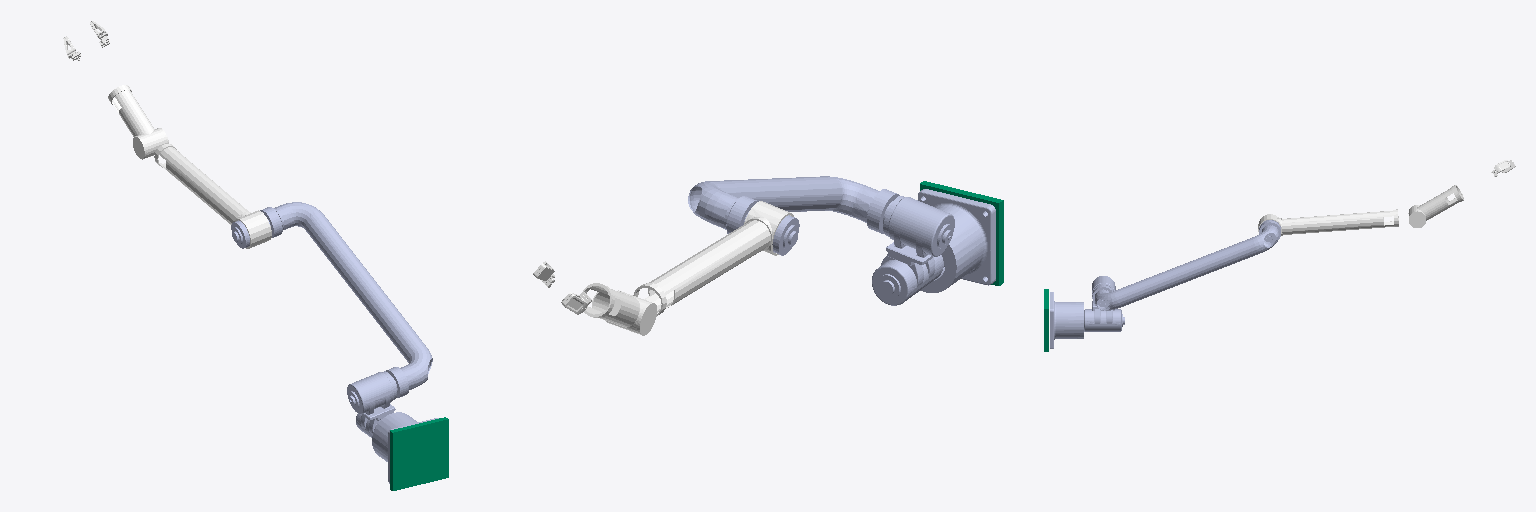
robot.urdf — satellite_4__starlink_sldasm9:
<?xml version='1.0' encoding='utf-8'?>
<robot name="satellite_4__starlink_sldasm9">
  <link name="base_link">
    <visual>
      <geometry>
        <mesh filename="../satellites/satellite_4/satellite.stl" scale="1 1 1" />
      </geometry>
      <material name="satellite_body_color">
        <color rgba="0.65 0.72 0.8 1" />
      </material>
    </visual>
    <collision>
      <geometry>
        <mesh filename="../satellites/satellite_4/satellite.stl" scale="1 1 1" />
      </geometry>
    </collision>
  </link>
  <link name="satellite_4_mount" />
  <joint name="satellite_mount_fixed" type="fixed">
    <parent link="base_link" />
    <child link="satellite_4_mount" />
    <origin xyz="0 0.5000001517447981 0.8" rpy="-1.5707963267948966 0.0 0.0" />
  </joint>
  <link name="concept_mount_pad">
    <visual>
      <origin xyz="0 0 0.015" />
      <geometry>
        <box size=".32 .32 .03" />
      </geometry>
    </visual>
    <collision>
      <origin xyz="0 0 0.015" />
      <geometry>
        <box size=".32 .32 .03" />
      </geometry>
    </collision>
  </link>
  <joint name="pad_fixed" type="fixed">
    <parent link="satellite_4_mount" />
    <child link="concept_mount_pad" />
    <origin xyz="0 0 0" rpy="0 0 0" />
  </joint>
  <joint name="arm_adapter_fixed" type="fixed">
    <parent link="satellite_4_mount" />
    <child link="starlink_space_manipulator_base_link" />
    <origin xyz="0.009087204933166504 0.008519247174263 0.15000000208616263" rpy="-1.5707963267948966 0 0" />
  </joint>
  <link name="starlink_space_manipulator_base_link">
    <inertial>
      <origin xyz="-0.00908719924946466 0.0225428225681148 -0.00851924929637313" rpy="0 0 0" />
      <mass value="8.66024015898073" />
      <inertia ixx="0.0960303512697639" ixy="1.65511904636803E-18" ixz="6.22039820639877E-19" iyy="0.103454922260914" iyz="-9.68471289978311E-19" izz="0.0960303512697639" />
    </inertial>
    <visual>
      <origin xyz="0 0 0" rpy="0 0 0" />
      <geometry>
        <mesh filename="../arms/starlink_sldasm9/meshes/starlink_space_manipulator_base_link.STL" />
      </geometry>
      <material name="">
        <color rgba="0.792156862745098 0.819607843137255 0.933333333333333 1" />
      </material>
    </visual>
    <collision>
      <origin xyz="0 0 0" rpy="0 0 0" />
      <geometry>
        <mesh filename="../arms/starlink_sldasm9/meshes/starlink_space_manipulator_base_link.STL" />
      </geometry>
    </collision>
  </link>
  <link name="starlink_space_manipulator_Shoulder_link_1">
    <inertial>
      <origin xyz="-0.000399471745595769 -0.100006574194712 -0.17423940484461" rpy="0 0 0" />
      <mass value="5.16309216784981" />
      <inertia ixx="0.0524543852135592" ixy="0.00348154867667969" ixz="6.96526910910627E-05" iyy="0.0306595326318824" iyz="-0.00056674368052247" izz="0.0439979075615329" />
    </inertial>
    <visual>
      <origin xyz="0 0 0" rpy="0 0 0" />
      <geometry>
        <mesh filename="../arms/starlink_sldasm9/meshes/starlink_space_manipulator_Shoulder_link_1.STL" />
      </geometry>
      <material name="">
        <color rgba="0.792156862745098 0.819607843137255 0.933333333333333 1" />
      </material>
    </visual>
    <collision>
      <origin xyz="0 0 0" rpy="0 0 0" />
      <geometry>
        <mesh filename="../arms/starlink_sldasm9/meshes/starlink_space_manipulator_Shoulder_link_1.STL" />
      </geometry>
    </collision>
  </link>
  <joint name="starlink_space_manipulator_Shoulder_link_1_yaw" type="revolute">
    <origin xyz="-0.0090872 -0.065 -0.0085192" rpy="1.5708 -0.15574 3.1416" />
    <parent link="starlink_space_manipulator_base_link" />
    <child link="starlink_space_manipulator_Shoulder_link_1" />
    <axis xyz="0 0 -1" />
    <limit lower="-3.14" upper="3.14" effort="0" velocity="0" />
  </joint>
  <link name="starlink_space_manipulator_Upper_arm_Link_1">
    <inertial>
      <origin xyz="0.402106341472203 -0.696465272634528 -0.170177523085579" rpy="0 0 0" />
      <mass value="5.05309869040685" />
      <inertia ixx="0.388719013133801" ixy="0.210155896498943" ixz="9.30829370680679E-08" iyy="0.146049057575642" iyz="1.71830458004218E-07" izz="0.500677708275447" />
    </inertial>
    <visual>
      <origin xyz="0 0 0" rpy="0 0 0" />
      <geometry>
        <mesh filename="../arms/starlink_sldasm9/meshes/starlink_space_manipulator_Upper_arm_Link_1.STL" />
      </geometry>
      <material name="">
        <color rgba="0.792156862745098 0.819607843137255 0.933333333333333 1" />
      </material>
    </visual>
    <collision>
      <origin xyz="0 0 0" rpy="0 0 0" />
      <geometry>
        <mesh filename="../arms/starlink_sldasm9/meshes/starlink_space_manipulator_Upper_arm_Link_1.STL" />
      </geometry>
    </collision>
  </link>
  <joint name="starlink_space_manipulator_Upper_arm_Link_1_roll" type="revolute">
    <origin xyz="0 -0.2 -0.18" rpy="1.5708 0.90646 1.5708" />
    <parent link="starlink_space_manipulator_Shoulder_link_1" />
    <child link="starlink_space_manipulator_Upper_arm_Link_1" />
    <axis xyz="0 0 -1" />
    <limit lower="-2" upper="1.5" effort="0" velocity="0" />
  </joint>
  <link name="starlink_space_manipulator_Mid_arm_Link_1">
    <inertial>
      <origin xyz="-0.000406052776441013 0.317722269561105 0.0155331755135703" rpy="0 0 0" />
      <mass value="1.57635531881168" />
      <inertia ixx="0.133610363618846" ixy="5.33750993405138E-05" ixz="-3.60473795202962E-09" iyy="0.00502119434334708" iyz="-2.514275749911E-05" izz="0.134586018527477" />
    </inertial>
    <visual>
      <origin xyz="0 0 0" rpy="0 0 0" />
      <geometry>
        <mesh filename="../arms/starlink_sldasm9/meshes/starlink_space_manipulator_Mid_arm_Link_1.STL" />
      </geometry>
      <material name="">
        <color rgba="1 1 1 1" />
      </material>
    </visual>
    <collision>
      <origin xyz="0 0 0" rpy="0 0 0" />
      <geometry>
        <mesh filename="../arms/starlink_sldasm9/meshes/starlink_space_manipulator_Mid_arm_Link_1.STL" />
      </geometry>
    </collision>
  </link>
  <joint name="starlink_space_manipulator_Mid_arm_Link_1_roll" type="revolute">
    <origin xyz="0.599999999999673 -1.03923048454122 0" rpy="-3.14159265358979 0 0.828250280535091" />
    <parent link="starlink_space_manipulator_Upper_arm_Link_1" />
    <child link="starlink_space_manipulator_Mid_arm_Link_1" />
    <axis xyz="0 0 -1" />
    <limit lower="-3.14" upper="3.14" effort="0" velocity="0" />
  </joint>
  <link name="starlink_space_manipulator_Upper_wrist_Link_1">
    <inertial>
      <origin xyz="-0.000400003664721815 -0.201565878030355 -0.00216705855311664" rpy="0 0 0" />
      <mass value="0.994770641034713" />
      <inertia ixx="0.00165409639029414" ixy="-7.59103925411082E-06" ixz="-3.17403155320863E-06" iyy="0.00201437937768072" iyz="2.63246464091218E-06" izz="0.00159638838344539" />
    </inertial>
    <visual>
      <origin xyz="0 0 0" rpy="0 0 0" />
      <geometry>
        <mesh filename="../arms/starlink_sldasm9/meshes/starlink_space_manipulator_Upper_wrist_Link_1.STL" />
      </geometry>
      <material name="">
        <color rgba="0.792156862745098 0.819607843137255 0.933333333333333 1" />
      </material>
    </visual>
    <collision>
      <origin xyz="0 0 0" rpy="0 0 0" />
      <geometry>
        <mesh filename="../arms/starlink_sldasm9/meshes/starlink_space_manipulator_Upper_wrist_Link_1.STL" />
      </geometry>
    </collision>
  </link>
  <joint name="starlink_space_manipulator_Upper_wrist_Link_1_yaw" type="revolute">
    <origin xyz="-0.00050155183276912 0.686793643713439 0.0155010481432086" rpy="0 -0.0763876794035917 3.14159265358979" />
    <parent link="starlink_space_manipulator_Mid_arm_Link_1" />
    <child link="starlink_space_manipulator_Upper_wrist_Link_1" />
    <axis xyz="0 -1 0" />
    <limit lower="-3.14" upper="3.14" effort="0" velocity="0" />
  </joint>
  <link name="starlink_space_manipulator_Upper_wrist_Link_2">
    <inertial>
      <origin xyz="8.45304168883843E-08 0.0848318719623631 -0.00515657391755576" rpy="0 0 0" />
      <mass value="1.03716823037577" />
      <inertia ixx="0.0100970561498589" ixy="1.32295633551837E-09" ixz="-9.43675929999229E-09" iyy="0.00222325407426665" iyz="-2.08772874866187E-06" izz="0.0105840577017538" />
    </inertial>
    <visual>
      <origin xyz="0 0 0" rpy="0 0 0" />
      <geometry>
        <mesh filename="../arms/starlink_sldasm9/meshes/starlink_space_manipulator_Upper_wrist_Link_2.STL" />
      </geometry>
      <material name="">
        <color rgba="1 1 1 1" />
      </material>
    </visual>
    <collision>
      <origin xyz="0 0 0" rpy="0 0 0" />
      <geometry>
        <mesh filename="../arms/starlink_sldasm9/meshes/starlink_space_manipulator_Upper_wrist_Link_2.STL" />
      </geometry>
    </collision>
  </link>
  <joint name="starlink_space_manipulator_Upper_wrist_Link_2_roll" type="revolute">
    <origin xyz="0 -0.30020635628656 0" rpy="-0.0158640776811277 -0.0317448426184613 -2.67805461574742" />
    <parent link="starlink_space_manipulator_Upper_wrist_Link_1" />
    <child link="starlink_space_manipulator_Upper_wrist_Link_2" />
    <axis xyz="0 0 1" />
    <limit lower="-2.5" upper="1.8" effort="0" velocity="0" />
  </joint>
  <link name="starlink__space_manipulator_2F-Body_Link">
    <inertial>
      <origin xyz="0.000132893636818288 -0.122912145301831 0.000141178527731878" rpy="0 0 0" />
      <mass value="2.06098061435798" />
      <inertia ixx="0.00357820981002093" ixy="-9.7173781739015E-06" ixz="-0.000377950837415894" iyy="0.00540179107539635" iyz="3.57093943209629E-06" izz="0.0050632324449311" />
    </inertial>
    <visual>
      <origin xyz="0 0 0" rpy="0 0 0" />
      <geometry>
        <mesh filename="../arms/starlink_sldasm9/meshes/starlink__space_manipulator_2F-Body_Link.STL" />
      </geometry>
      <material name="">
        <color rgba="0.792156862745098 0.819607843137255 0.933333333333333 1" />
      </material>
    </visual>
    <collision>
      <origin xyz="0 0 0" rpy="0 0 0" />
      <geometry>
        <mesh filename="../arms/starlink_sldasm9/meshes/starlink__space_manipulator_2F-Body_Link.STL" />
      </geometry>
    </collision>
  </link>
  <joint name="starlink__space_manipulator_2F-Body_Link_yaw" type="revolute">
    <origin xyz="0 0.34845 -0.0053813" rpy="-3.1416 0.93592 0" />
    <parent link="starlink_space_manipulator_Upper_wrist_Link_2" />
    <child link="starlink__space_manipulator_2F-Body_Link" />
    <axis xyz="0 -1 0" />
    <limit lower="-3.14" upper="3.14" effort="0" velocity="0" />
  </joint>
  <link name="starlink_space_manipulator_Finger1_2_Link">
    <inertial>
      <origin xyz="-0.128379781160824 0.00213384929263816 0.20765530277947" rpy="0 0 0" />
      <mass value="0.164012557851557" />
      <inertia ixx="0.000137377814382494" ixy="5.75324125943043E-07" ixz="1.56204374379134E-05" iyy="0.000128174497717794" iyz="2.8915711708103E-06" izz="5.56877077151319E-05" />
    </inertial>
    <visual>
      <origin xyz="0 0 0" rpy="0 0 0" />
      <geometry>
        <mesh filename="../arms/starlink_sldasm9/meshes/starlink_space_manipulator_Finger1_2_Link.STL" />
      </geometry>
      <material name="">
        <color rgba="1 1 1 1" />
      </material>
    </visual>
    <collision>
      <origin xyz="0 0 0" rpy="0 0 0" />
      <geometry>
        <mesh filename="../arms/starlink_sldasm9/meshes/starlink_space_manipulator_Finger1_2_Link.STL" />
      </geometry>
    </collision>
  </link>
  <joint name="starlink_space_manipulator_Finger1_2_Link_roll" type="prismatic">
    <origin xyz="-0.2017 -0.10916 -0.04801" rpy="-1.5708 0.22747 -3.1416" />
    <parent link="starlink__space_manipulator_2F-Body_Link" />
    <child link="starlink_space_manipulator_Finger1_2_Link" />
    <axis xyz="-1 0 0" />
    <limit lower="0.0" upper="0.04" effort="20" velocity="0" />
  </joint>
  <link name="starlink_space_manipulator_Finger2_1_Link">
    <inertial>
      <origin xyz="-0.128379783275286 0.0021338497374519 0.207655316264438" rpy="0 0 0" />
      <mass value="0.164012525176243" />
      <inertia ixx="0.000137377758573247" ixy="5.75327227385201E-07" ixz="1.56204303396715E-05" iyy="0.00012817444752134" iyz="2.89153901545968E-06" izz="5.5687711839857E-05" />
    </inertial>
    <visual>
      <origin xyz="0 0 0" rpy="0 0 0" />
      <geometry>
        <mesh filename="../arms/starlink_sldasm9/meshes/starlink_space_manipulator_Finger2_1_Link.STL" />
      </geometry>
      <material name="">
        <color rgba="1 1 1 1" />
      </material>
    </visual>
    <collision>
      <origin xyz="0 0 0" rpy="0 0 0" />
      <geometry>
        <mesh filename="../arms/starlink_sldasm9/meshes/starlink_space_manipulator_Finger2_1_Link.STL" />
      </geometry>
    </collision>
  </link>
  <joint name="starlink_space_manipulator_Finger2_1_Link_roll" type="prismatic">
    <origin xyz="0.20865 -0.10916 0.049619" rpy="1.5708 -0.22747 0" />
    <parent link="starlink__space_manipulator_2F-Body_Link" />
    <child link="starlink_space_manipulator_Finger2_1_Link" />
    <axis xyz="-1 0 0" />
    <limit lower="0.0" upper="0.04" effort="20" velocity="0" />
  </joint>
</robot>

--- What the picture shows (computed from the rendered views, not written in the file) ---
Views: 3 orthographic renders of the robot side by side, from view 1: azimuth 30°, elevation 25°; view 2: azimuth 150°, elevation 25°; view 3: azimuth 270°, elevation 25°.
Model satellite_4__starlink_sldasm9 with 12 links and 11 joints (6 revolute, 2 prismatic, 3 fixed), rooted at base_link, posed all joints at 0.
Links seen in each view (by area): view 1: starlink_space_manipulator_Upper_arm_Link_1, concept_mount_pad, starlink_space_manipulator_Mid_arm_Link_1, starlink_space_manipulator_Shoulder_link_1, starlink_space_manipulator_Upper_wrist_Link_2, starlink_space_manipulator_base_link; view 2: starlink_space_manipulator_Upper_arm_Link_1, starlink_space_manipulator_Shoulder_link_1, starlink_space_manipulator_Mid_arm_Link_1, starlink_space_manipulator_base_link, starlink_space_manipulator_Upper_wrist_Link_2, concept_mount_pad; view 3: starlink_space_manipulator_Upper_arm_Link_1, starlink_space_manipulator_Mid_arm_Link_1, starlink_space_manipulator_base_link, starlink_space_manipulator_Shoulder_link_1, starlink_space_manipulator_Upper_wrist_Link_2.
Boxes of the visible links, bbox=[...] form: starlink_space_manipulator_Upper_arm_Link_1: bbox=[231, 202, 432, 402]; concept_mount_pad: bbox=[390, 417, 448, 490]; starlink_space_manipulator_Mid_arm_Link_1: bbox=[154, 144, 271, 248]; starlink_space_manipulator_Shoulder_link_1: bbox=[347, 367, 408, 437]; starlink_space_manipulator_Upper_wrist_Link_2: bbox=[108, 85, 168, 159]; starlink_space_manipulator_base_link: bbox=[372, 412, 438, 483]; starlink_space_manipulator_Upper_arm_Link_1: bbox=[688, 176, 950, 255]; starlink_space_manipulator_Shoulder_link_1: bbox=[867, 189, 954, 305]; starlink_space_manipulator_Mid_arm_Link_1: bbox=[633, 201, 793, 315]; starlink_space_manipulator_base_link: bbox=[918, 189, 995, 292]; starlink_space_manipulator_Upper_wrist_Link_2: bbox=[583, 283, 656, 335]; concept_mount_pad: bbox=[920, 181, 1003, 285]; starlink_space_manipulator_Upper_arm_Link_1: bbox=[1095, 220, 1280, 310]; starlink_space_manipulator_Mid_arm_Link_1: bbox=[1258, 209, 1398, 235]; starlink_space_manipulator_base_link: bbox=[1050, 292, 1083, 348]; starlink_space_manipulator_Shoulder_link_1: bbox=[1084, 276, 1124, 331]; starlink_space_manipulator_Upper_wrist_Link_2: bbox=[1408, 185, 1463, 227].
Size in the robot's own frame: 0.5961 by 3.15 by 1.31 metres.
7 mesh visuals loaded from 10 distinct referenced files (7 binary STL); not drawn: 3 (reference not matched to a file when rendering).
